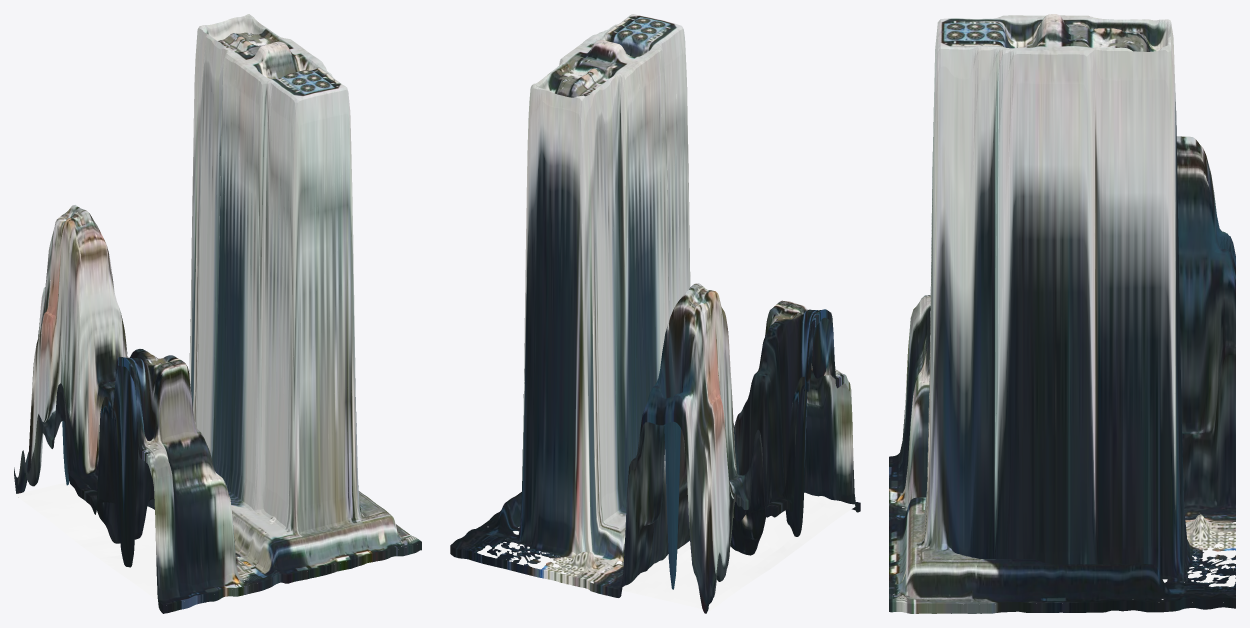
3 renders of one model, left to right at view 1: azimuth 30°, elevation 25°; view 2: azimuth 150°, elevation 25°; view 3: azimuth 270°, elevation 25°, orthographic. The views are drawn at different scales.
Parts seen in each view (by area): view 1: surface, ground; view 2: surface, ground; view 3: surface, ground.
Part boxes in pixels (x1,y1,x2,y2): surface: (14,14,421,613); ground: (14,482,401,601); surface: (450,14,860,613); ground: (477,492,855,610); surface: (889,14,1235,613); ground: (893,507,1235,602).
Bounding box in the file's own units: 128 × 224 × 128.
Materials: 2 (1 with a texture image).
